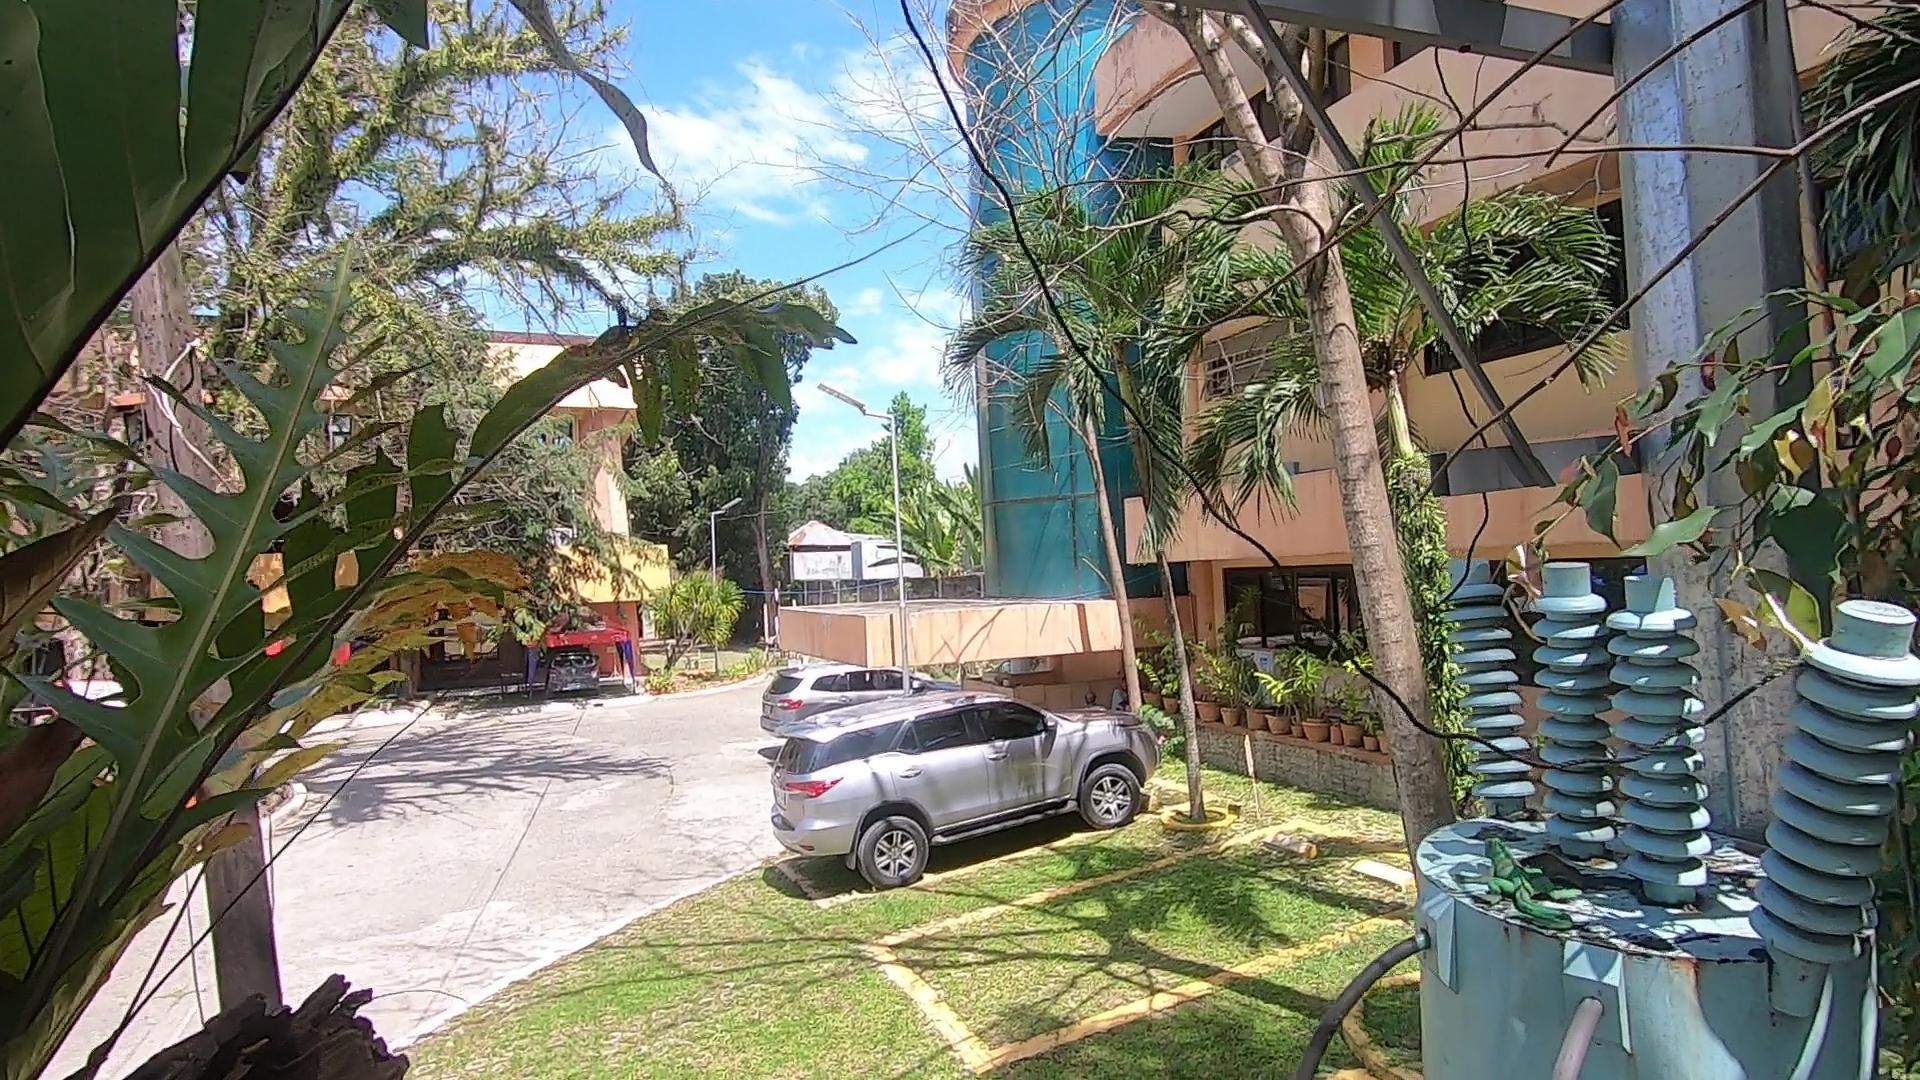leaf: (1524, 847, 1621, 891), (1490, 804, 1545, 818)
tree branch: (1138, 3, 1920, 502)
